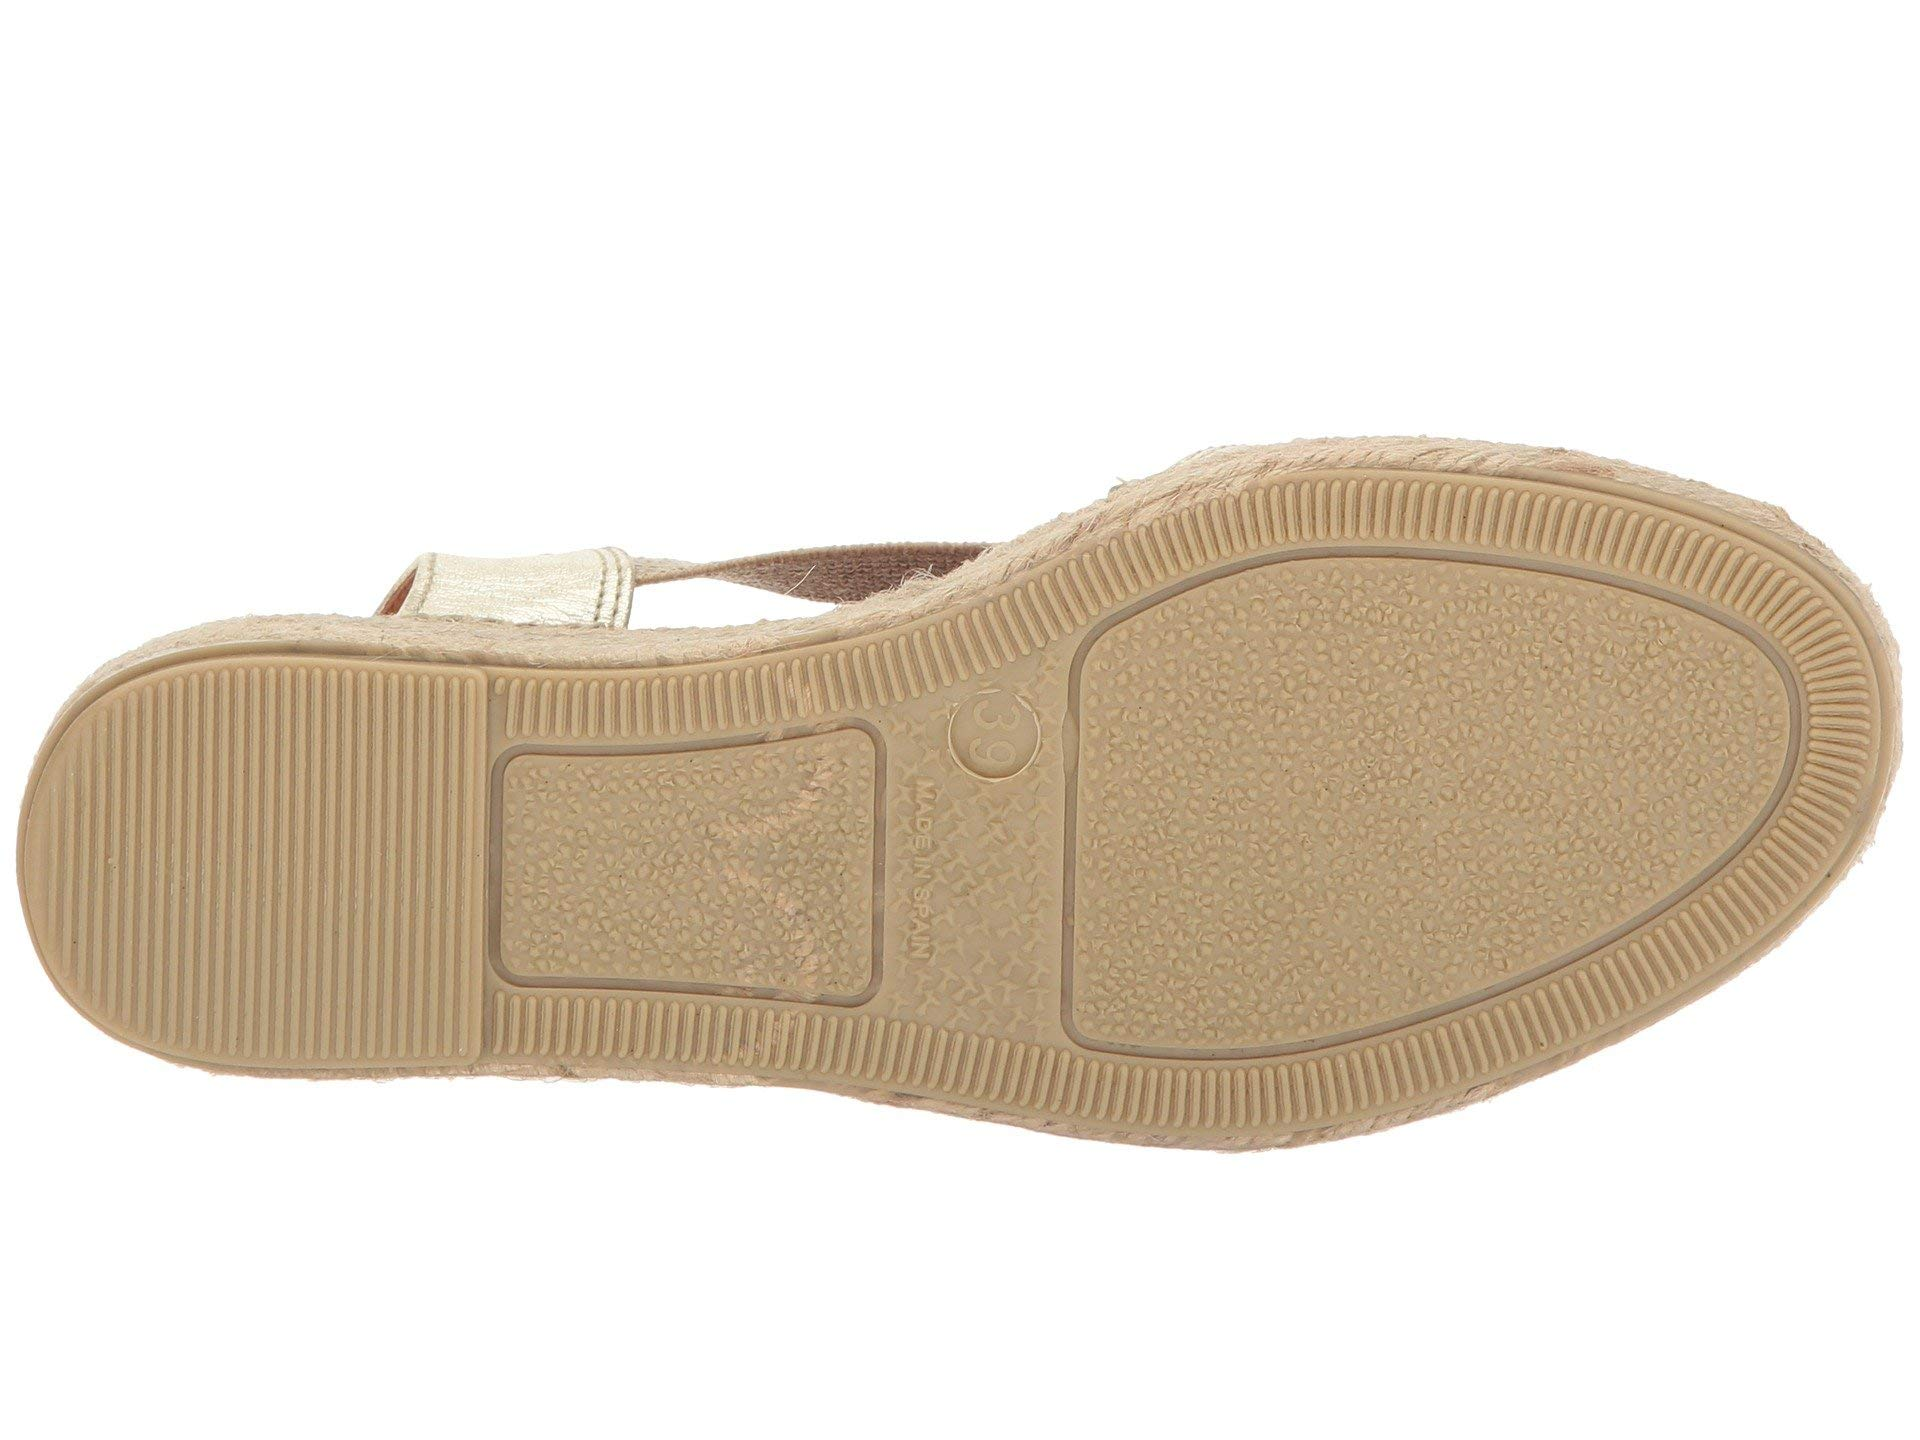circle: (946, 681, 1045, 788)
line: (26, 669, 476, 1091)
quad: (488, 715, 895, 1019)
star: (952, 805, 1054, 1036)
text: (903, 771, 943, 970)
